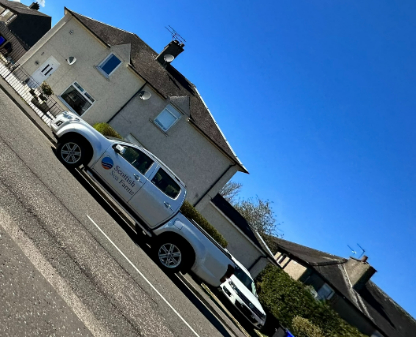car: (45, 95, 232, 300), (216, 233, 276, 336)
